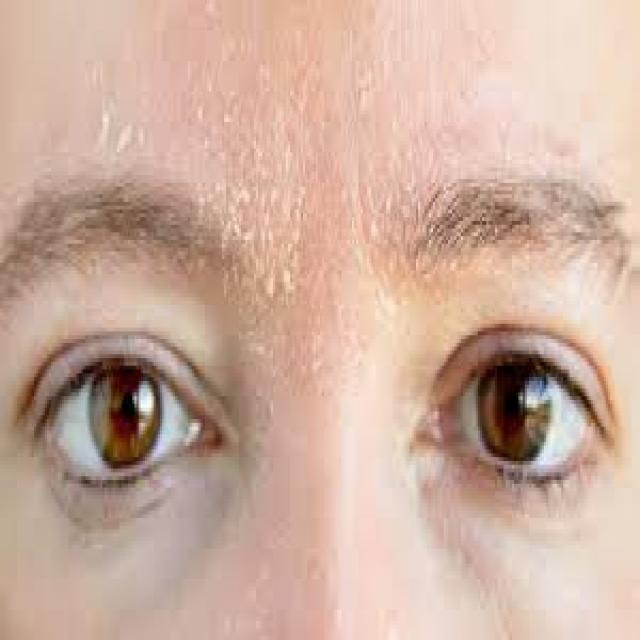flakiness: (88, 79, 311, 308)
